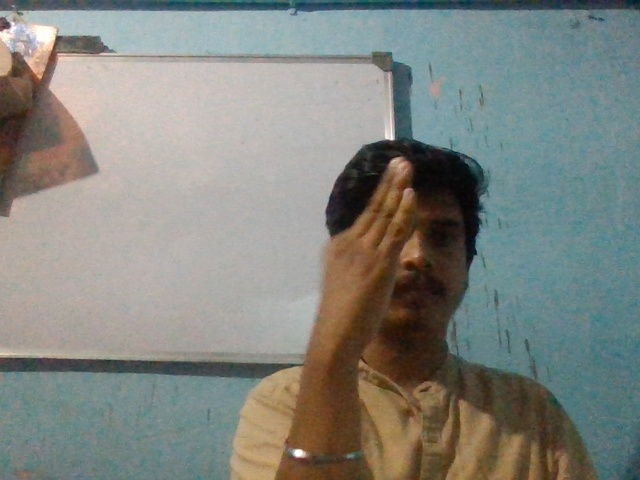Chin: (306, 147, 426, 362)
